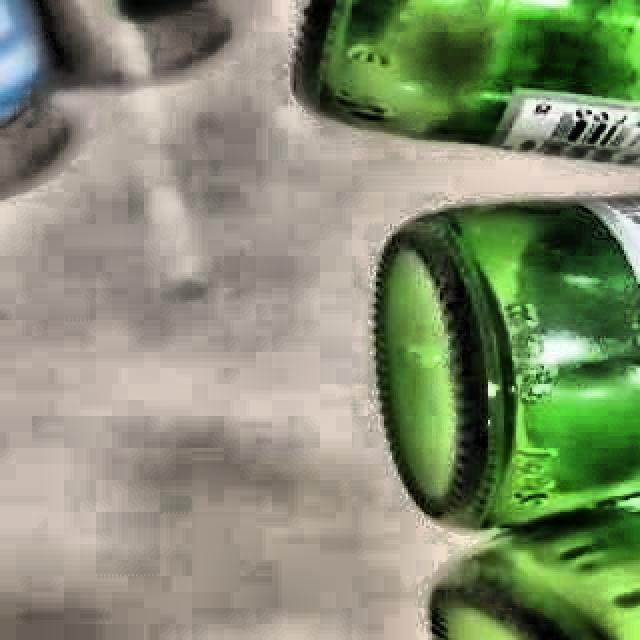glass: (378, 196, 640, 640)
